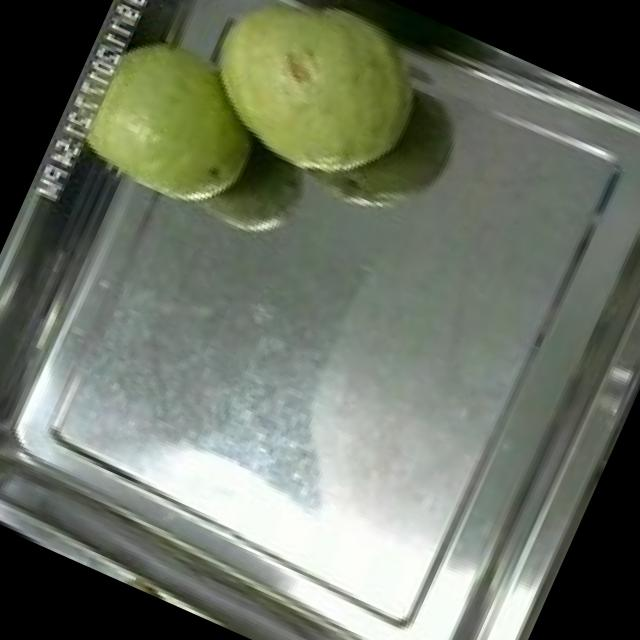Fruit: (169, 0, 457, 215), (47, 8, 290, 236)
